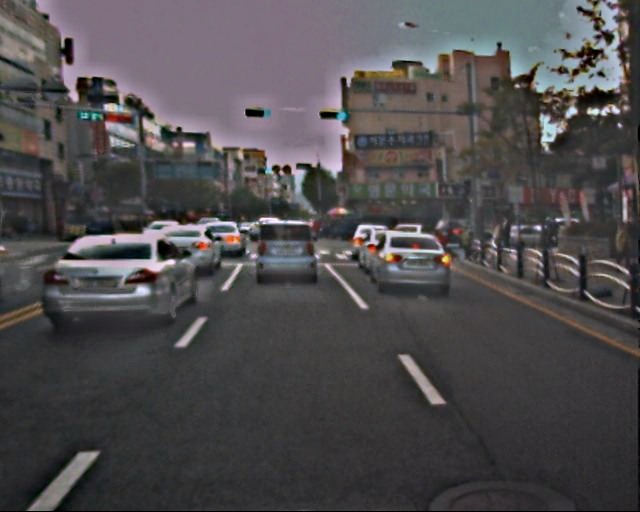person: (609, 221, 634, 281), (497, 210, 515, 255), (457, 224, 475, 267), (545, 212, 561, 250)
